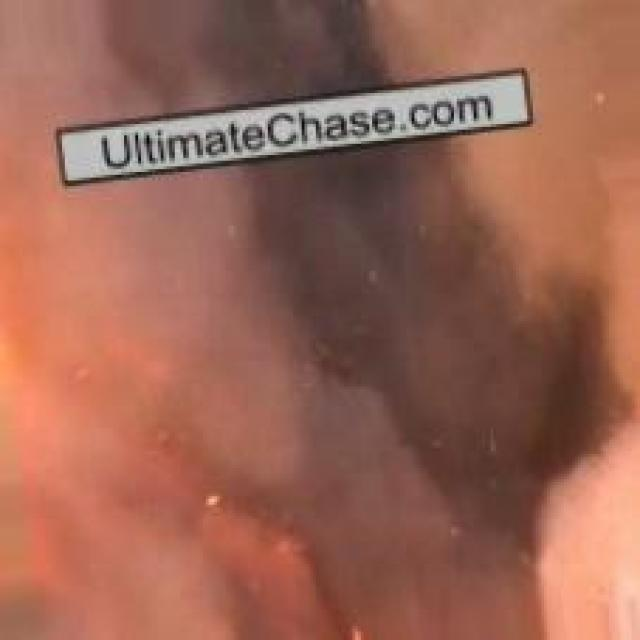smoke: (29, 187, 620, 616)
